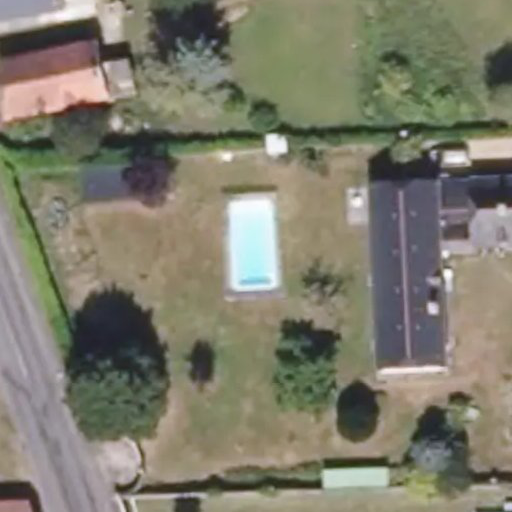pool: (235, 203, 276, 281)
